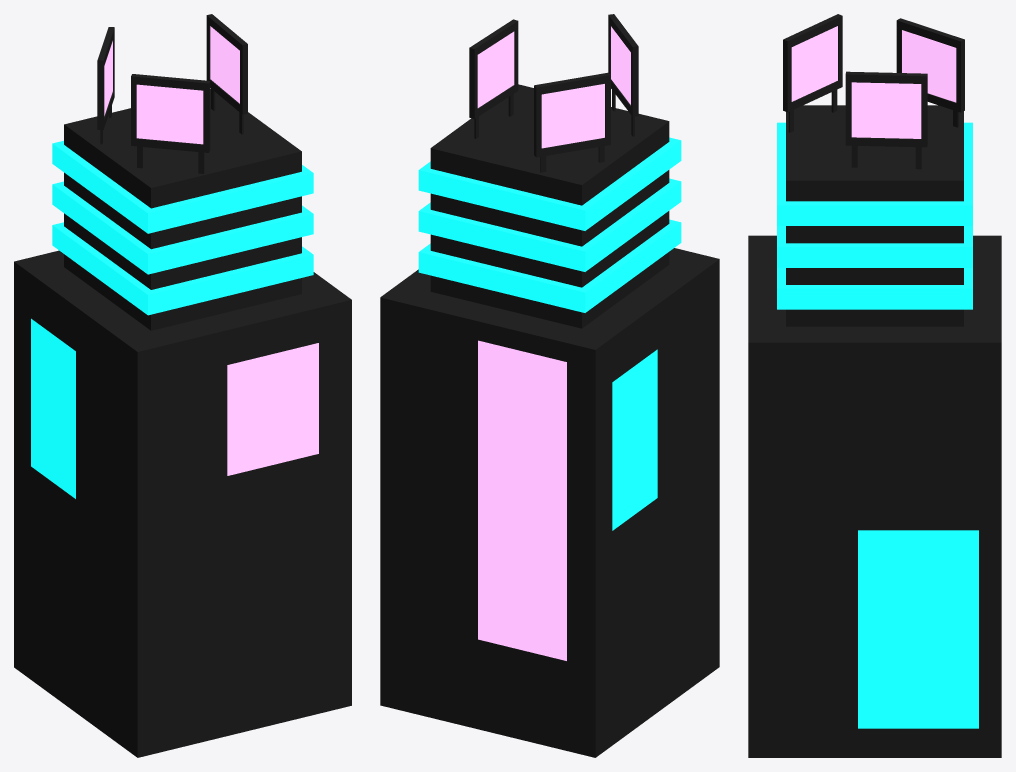
Rendered from Palazzo_03.fbx.
The picture shows the model from 3 angles, left to right: view 1: azimuth 30°, elevation 25°; view 2: azimuth 150°, elevation 25°; view 3: azimuth 270°, elevation 25°; orthographic projection. The views are drawn at different scales.
Visible parts, largest first — view 1: 04_Ed.001; view 2: 04_Ed.001; view 3: 04_Ed.001.
Boxes of the visible parts, box(x1,y1,x2,y2) form: 04_Ed.001: box(14, 14, 351, 757); 04_Ed.001: box(380, 14, 719, 757); 04_Ed.001: box(748, 14, 1001, 757).
Bounding box in the file's own units: 7 × 7 × 20.
